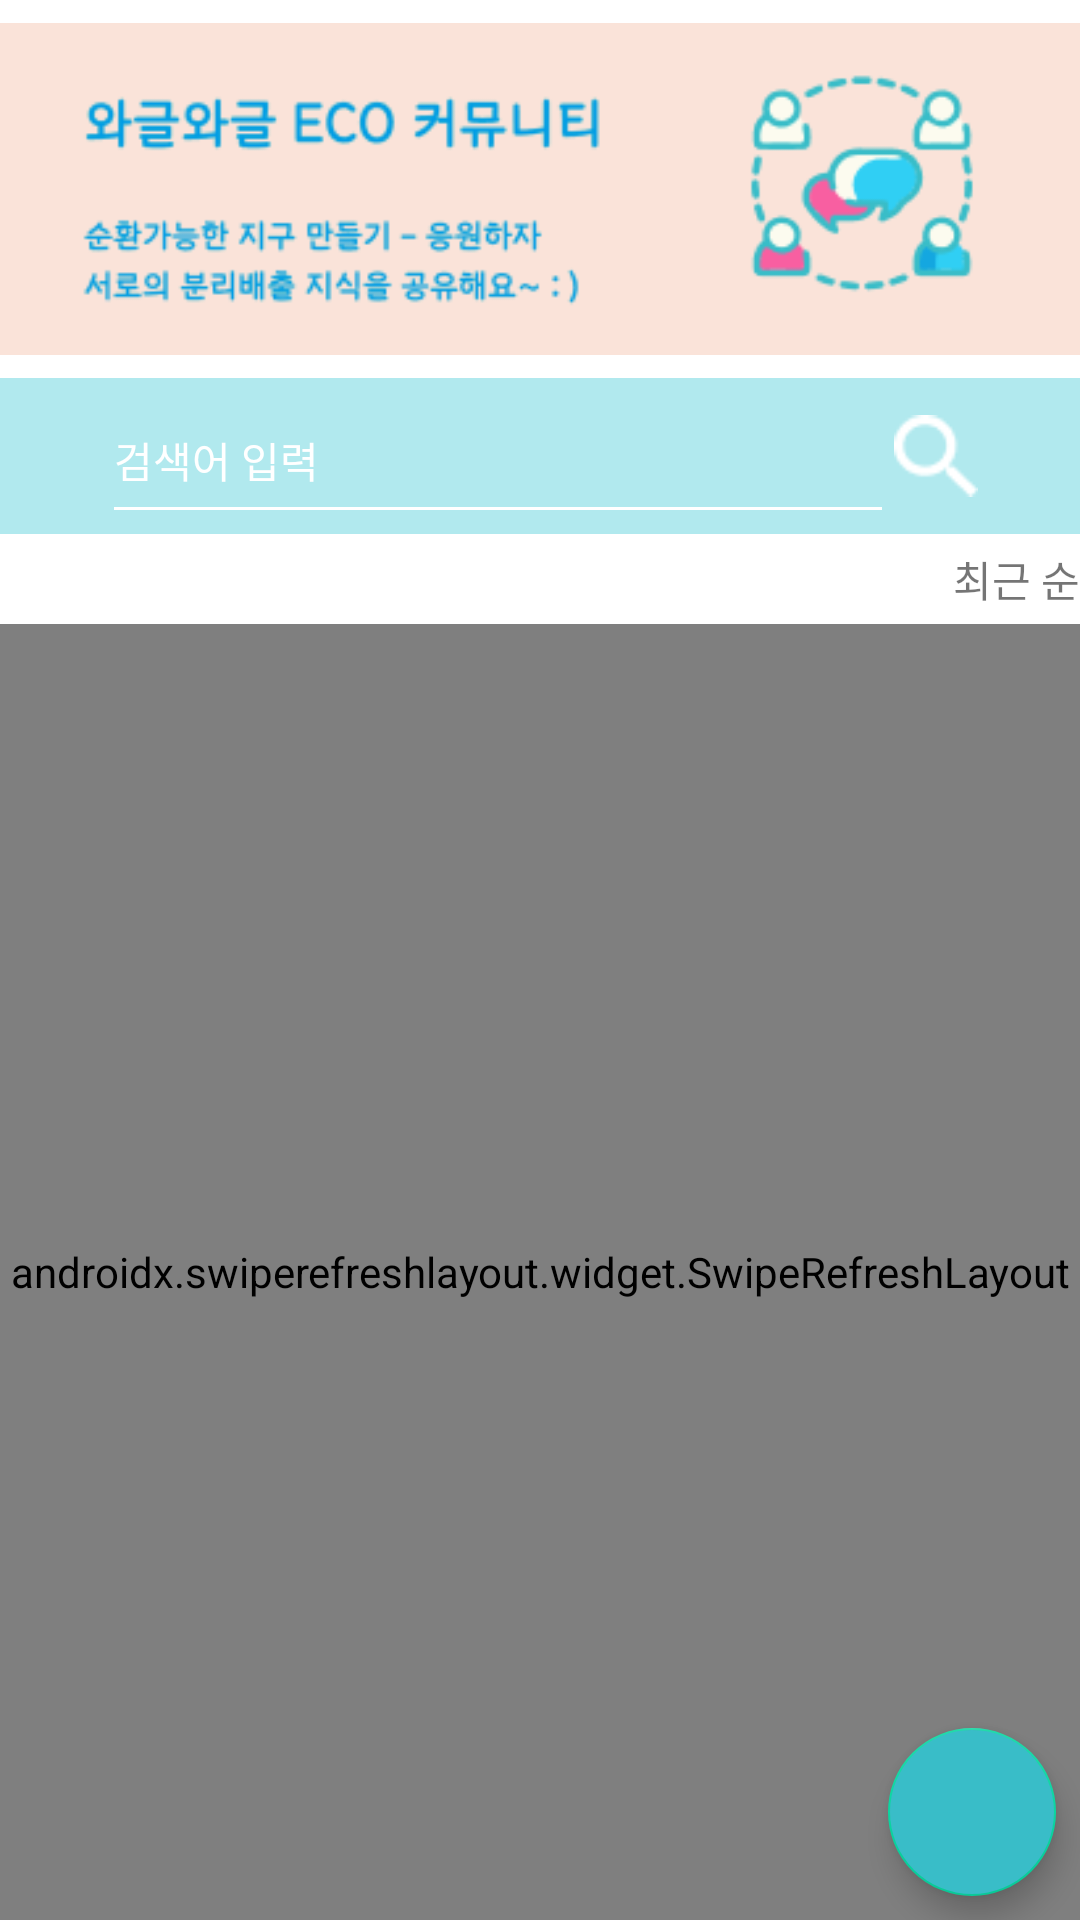

Icon bounding boxes for this 1080 × 1920 phone screenshot, format (x1, y1, x2, y2):
search: (894, 415, 978, 497)
